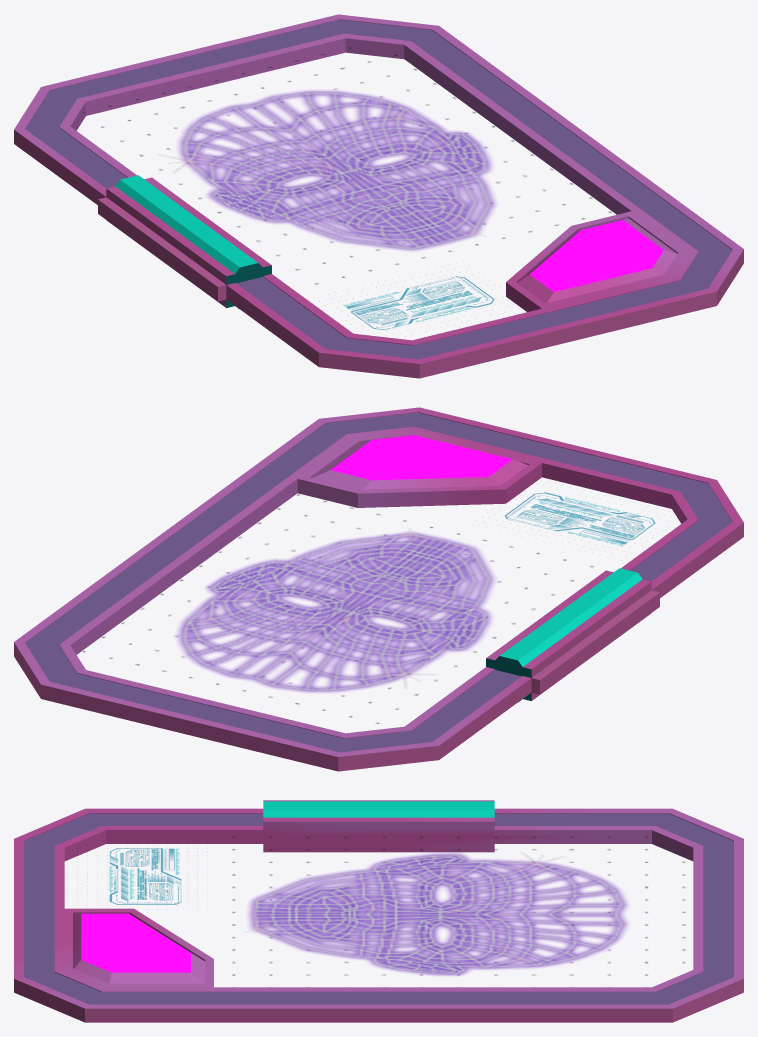
File: Head_Access_Card.glb
3 renders of one model, top to bottom at view 1: azimuth 30°, elevation 25°; view 2: azimuth 150°, elevation 25°; view 3: azimuth 270°, elevation 25°, orthographic. The views are drawn at different scales.
Parts seen in each view (by area): view 1: SciFiKey_FaceID2; view 2: SciFiKey_FaceID2; view 3: SciFiKey_FaceID2.
Part boxes in pixels (left/top/right/bottom): SciFiKey_FaceID2: left=14, top=14, right=743, bottom=378; SciFiKey_FaceID2: left=14, top=407, right=743, bottom=771; SciFiKey_FaceID2: left=14, top=800, right=743, bottom=1022.
Size of what is drawn, in the model's own units: 0.6157 by 0.0572 by 0.931.
2 materials, 2 textured.
